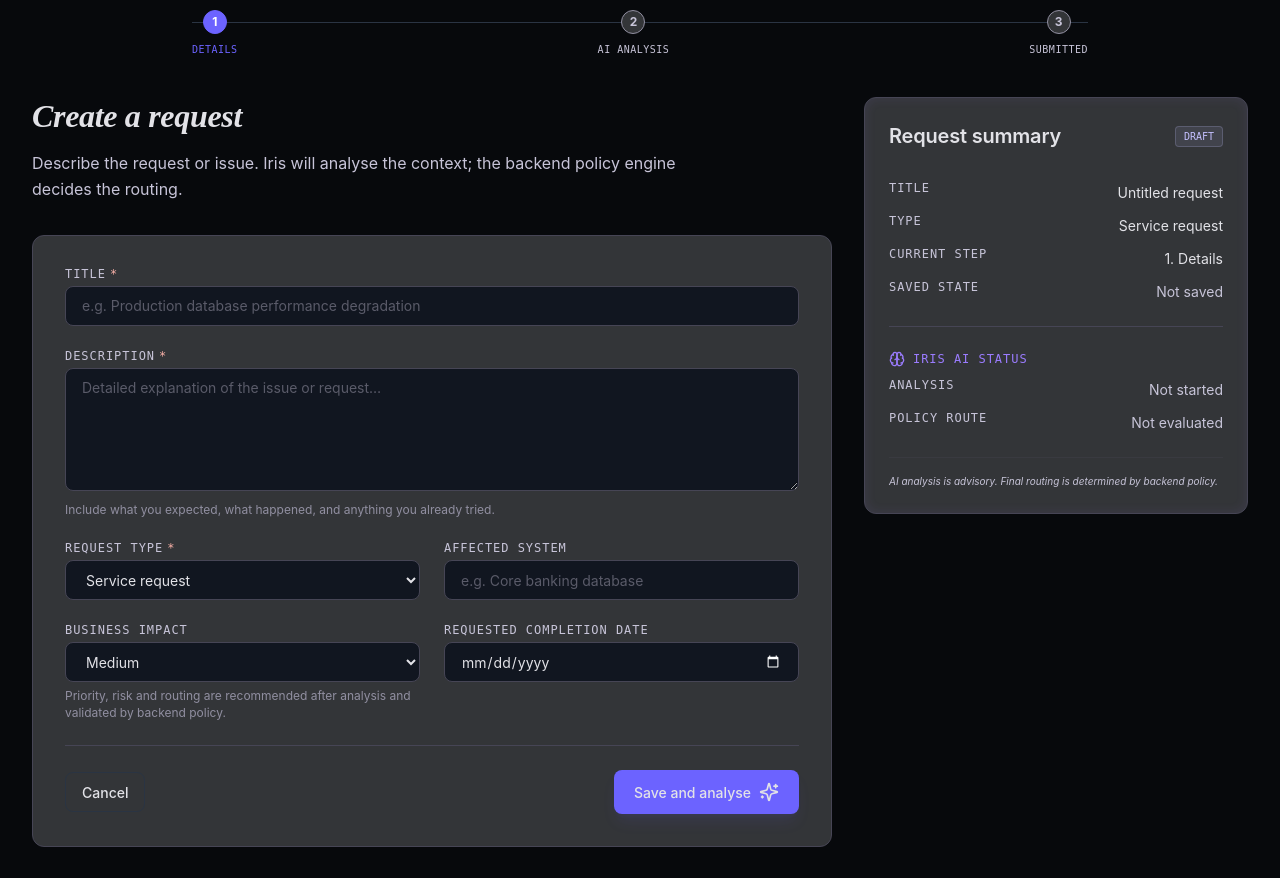
Test case: CreateRequestPage › keeps the user on the form and explains the failure when creation is rejected
Type "Production database is slow" into the field labelled "Title*" at (432,306), box [65,286,799,326]
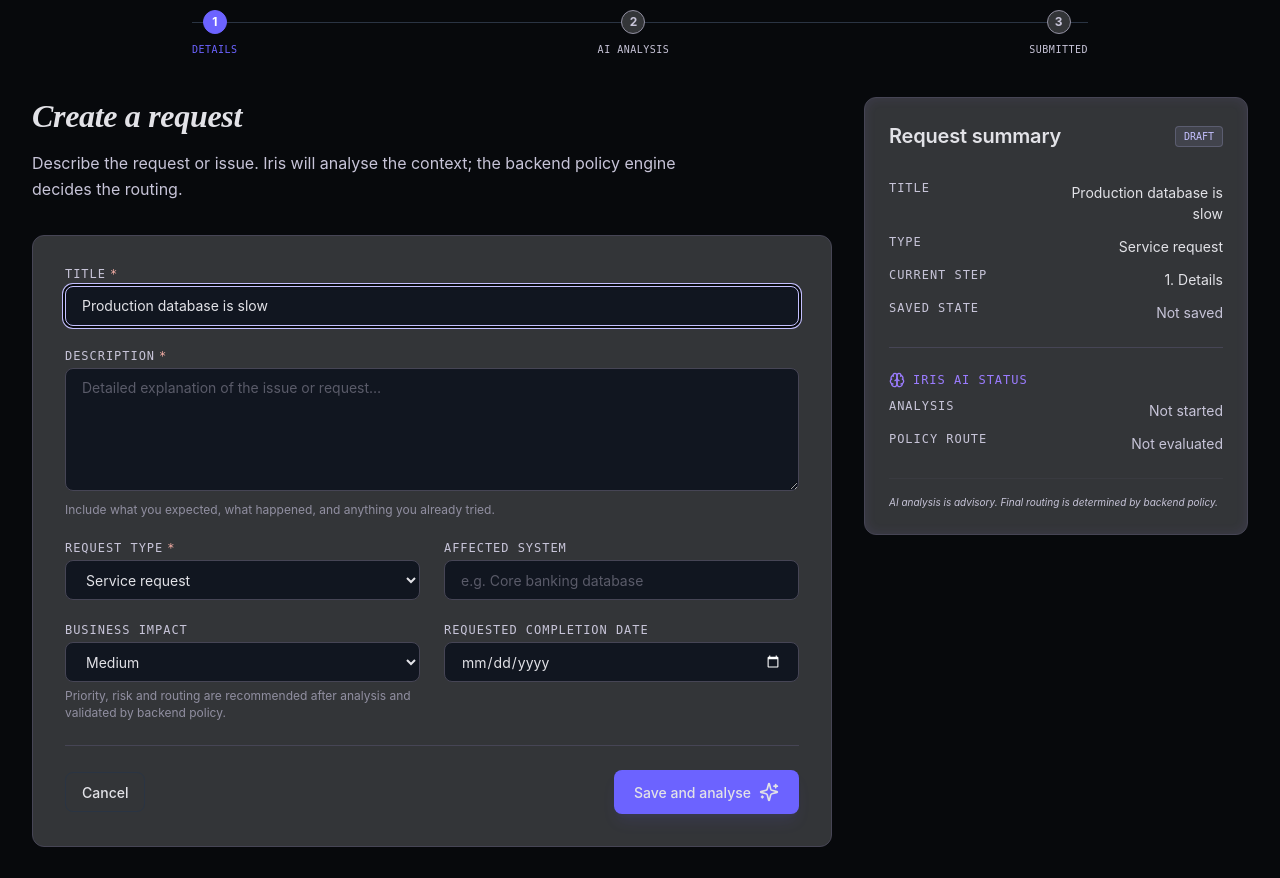
Type "Queries take thirty seconds since the deploy this morning." into the text box labelled "Description*" at (432,429), box [65,368,799,491]
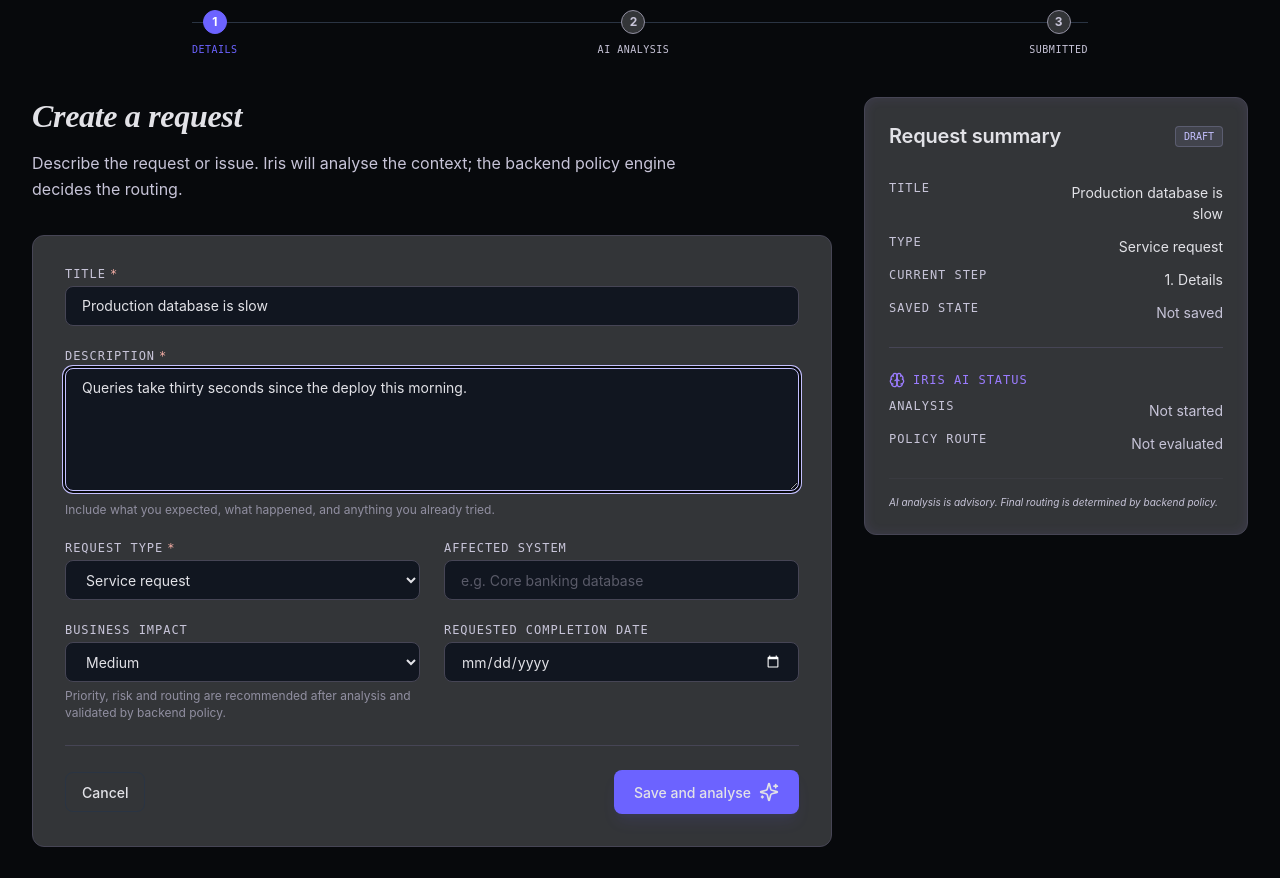
Select "High" in the dropdown labelled "Business impact" at (242,662), box [65,642,420,682]
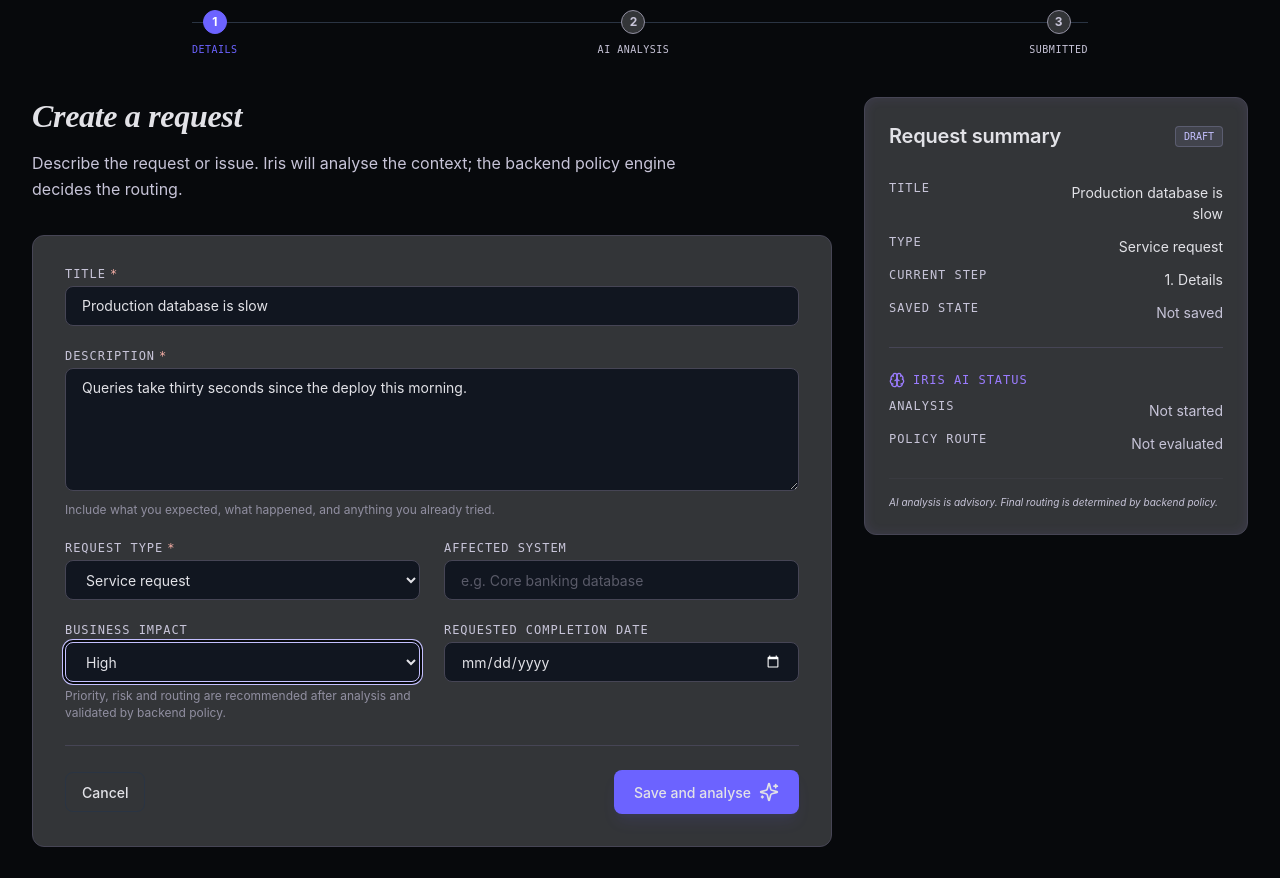
Click the button "Save and analyse" at (706,792), box [614,770,799,814]
(page scrolled)
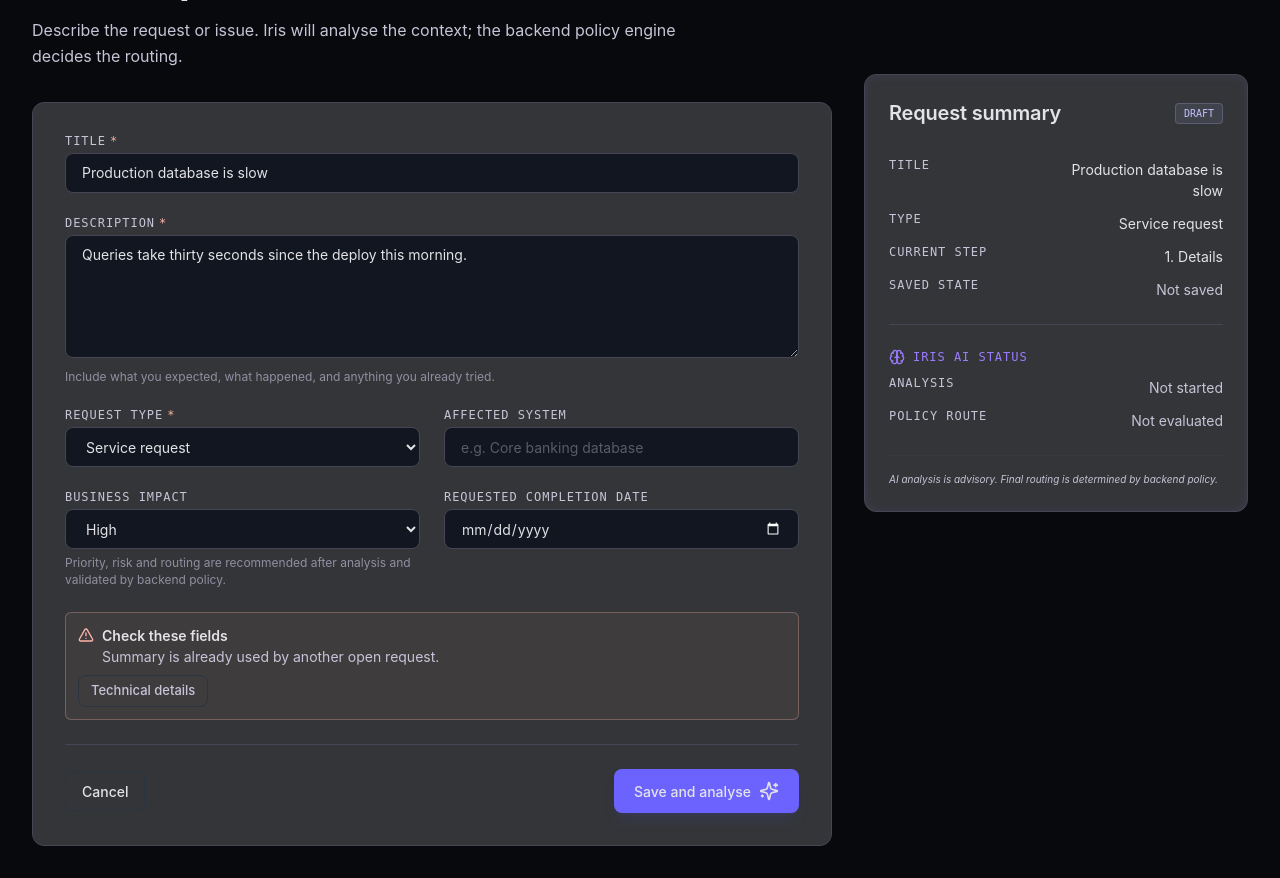
Check: the message shows "Summary is already used by another open request.", box [102,648,439,665]
